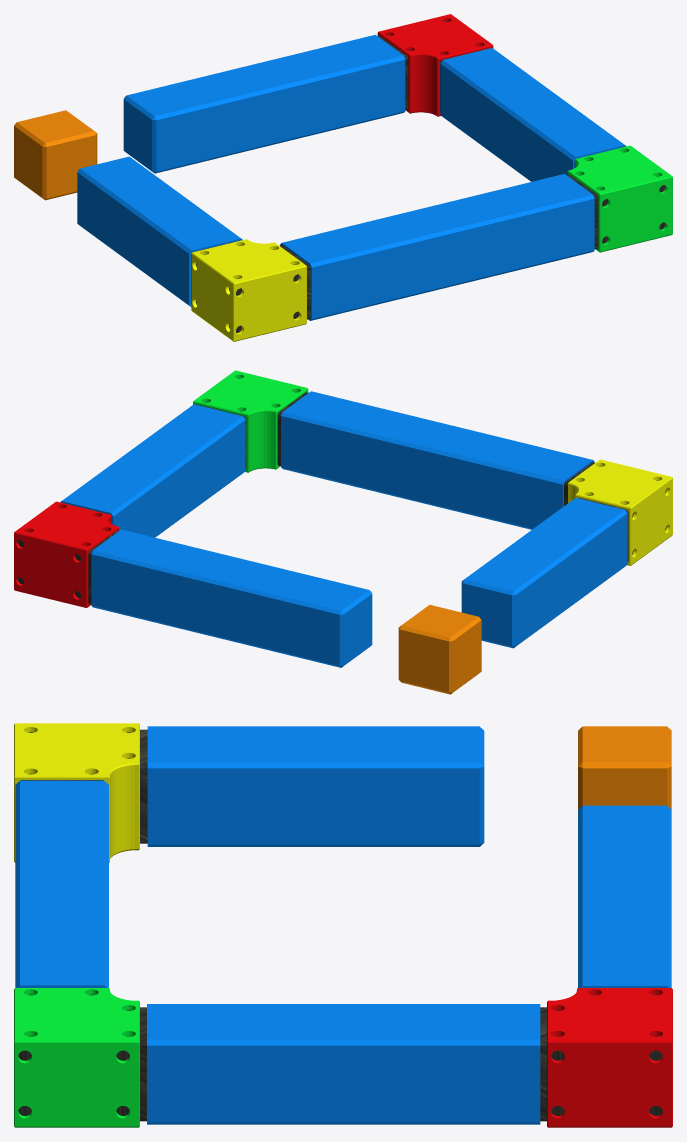
File: Square_opaque_newBlend.fbx
3 renders of one model, top to bottom at view 1: azimuth 30°, elevation 25°; view 2: azimuth 150°, elevation 25°; view 3: azimuth 270°, elevation 25°, orthographic. The views are drawn at different scales.
Parts seen in each view (by area): view 1: blue, yellow, green, orange, red, metal; view 2: blue, red, orange, yellow, green, metal; view 3: blue, red, green, yellow, orange, metal.
Boxes of the visible parts, x1,y1,x2,y2 form: blue: (77,34,626,320); yellow: (191,239,306,341); green: (567,145,672,252); orange: (14,110,97,200); red: (377,14,493,116); metal: (191,21,665,332); blue: (60,391,627,667); red: (14,501,118,607); orange: (398,604,481,694); yellow: (568,459,672,565); green: (193,370,308,472); metal: (18,378,666,604); blue: (15,726,671,1124); red: (547,988,672,1127); green: (14,988,139,1127); yellow: (14,723,139,862); orange: (578,726,671,809); metal: (18,729,662,1121).
Size of the model in its own units: 642 by 82 by 562.
6 materials, 6 textured.
